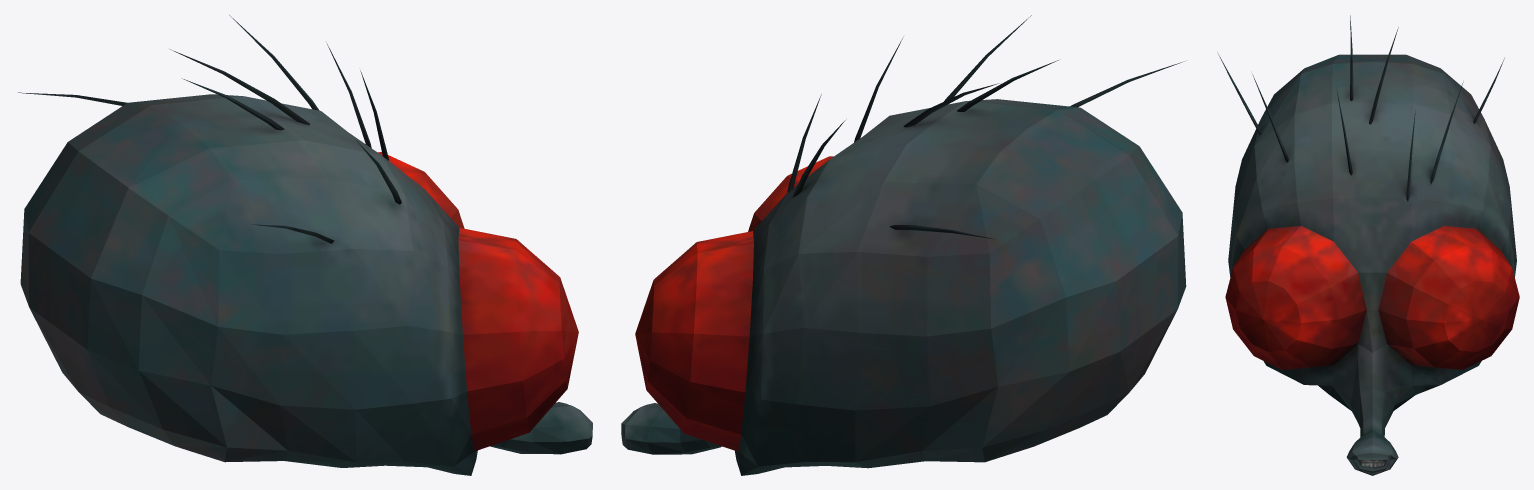
File: FLY HEAD A.fbx
The picture shows the model from 3 angles, left to right: view 1: azimuth 30°, elevation 25°; view 2: azimuth 150°, elevation 25°; view 3: azimuth 270°, elevation 25°; orthographic projection. The views are drawn at different scales.
Visible parts, largest first — view 1: FLY_HEAD_A; view 2: FLY_HEAD_A; view 3: FLY_HEAD_A.
Part boxes in pixels (<box>): FLY_HEAD_A: <box>18,15,592,475</box>; FLY_HEAD_A: <box>621,15,1186,475</box>; FLY_HEAD_A: <box>1218,15,1519,475</box>.
Bounding box in the file's own units: 44.39 × 39.01 × 32.89.
